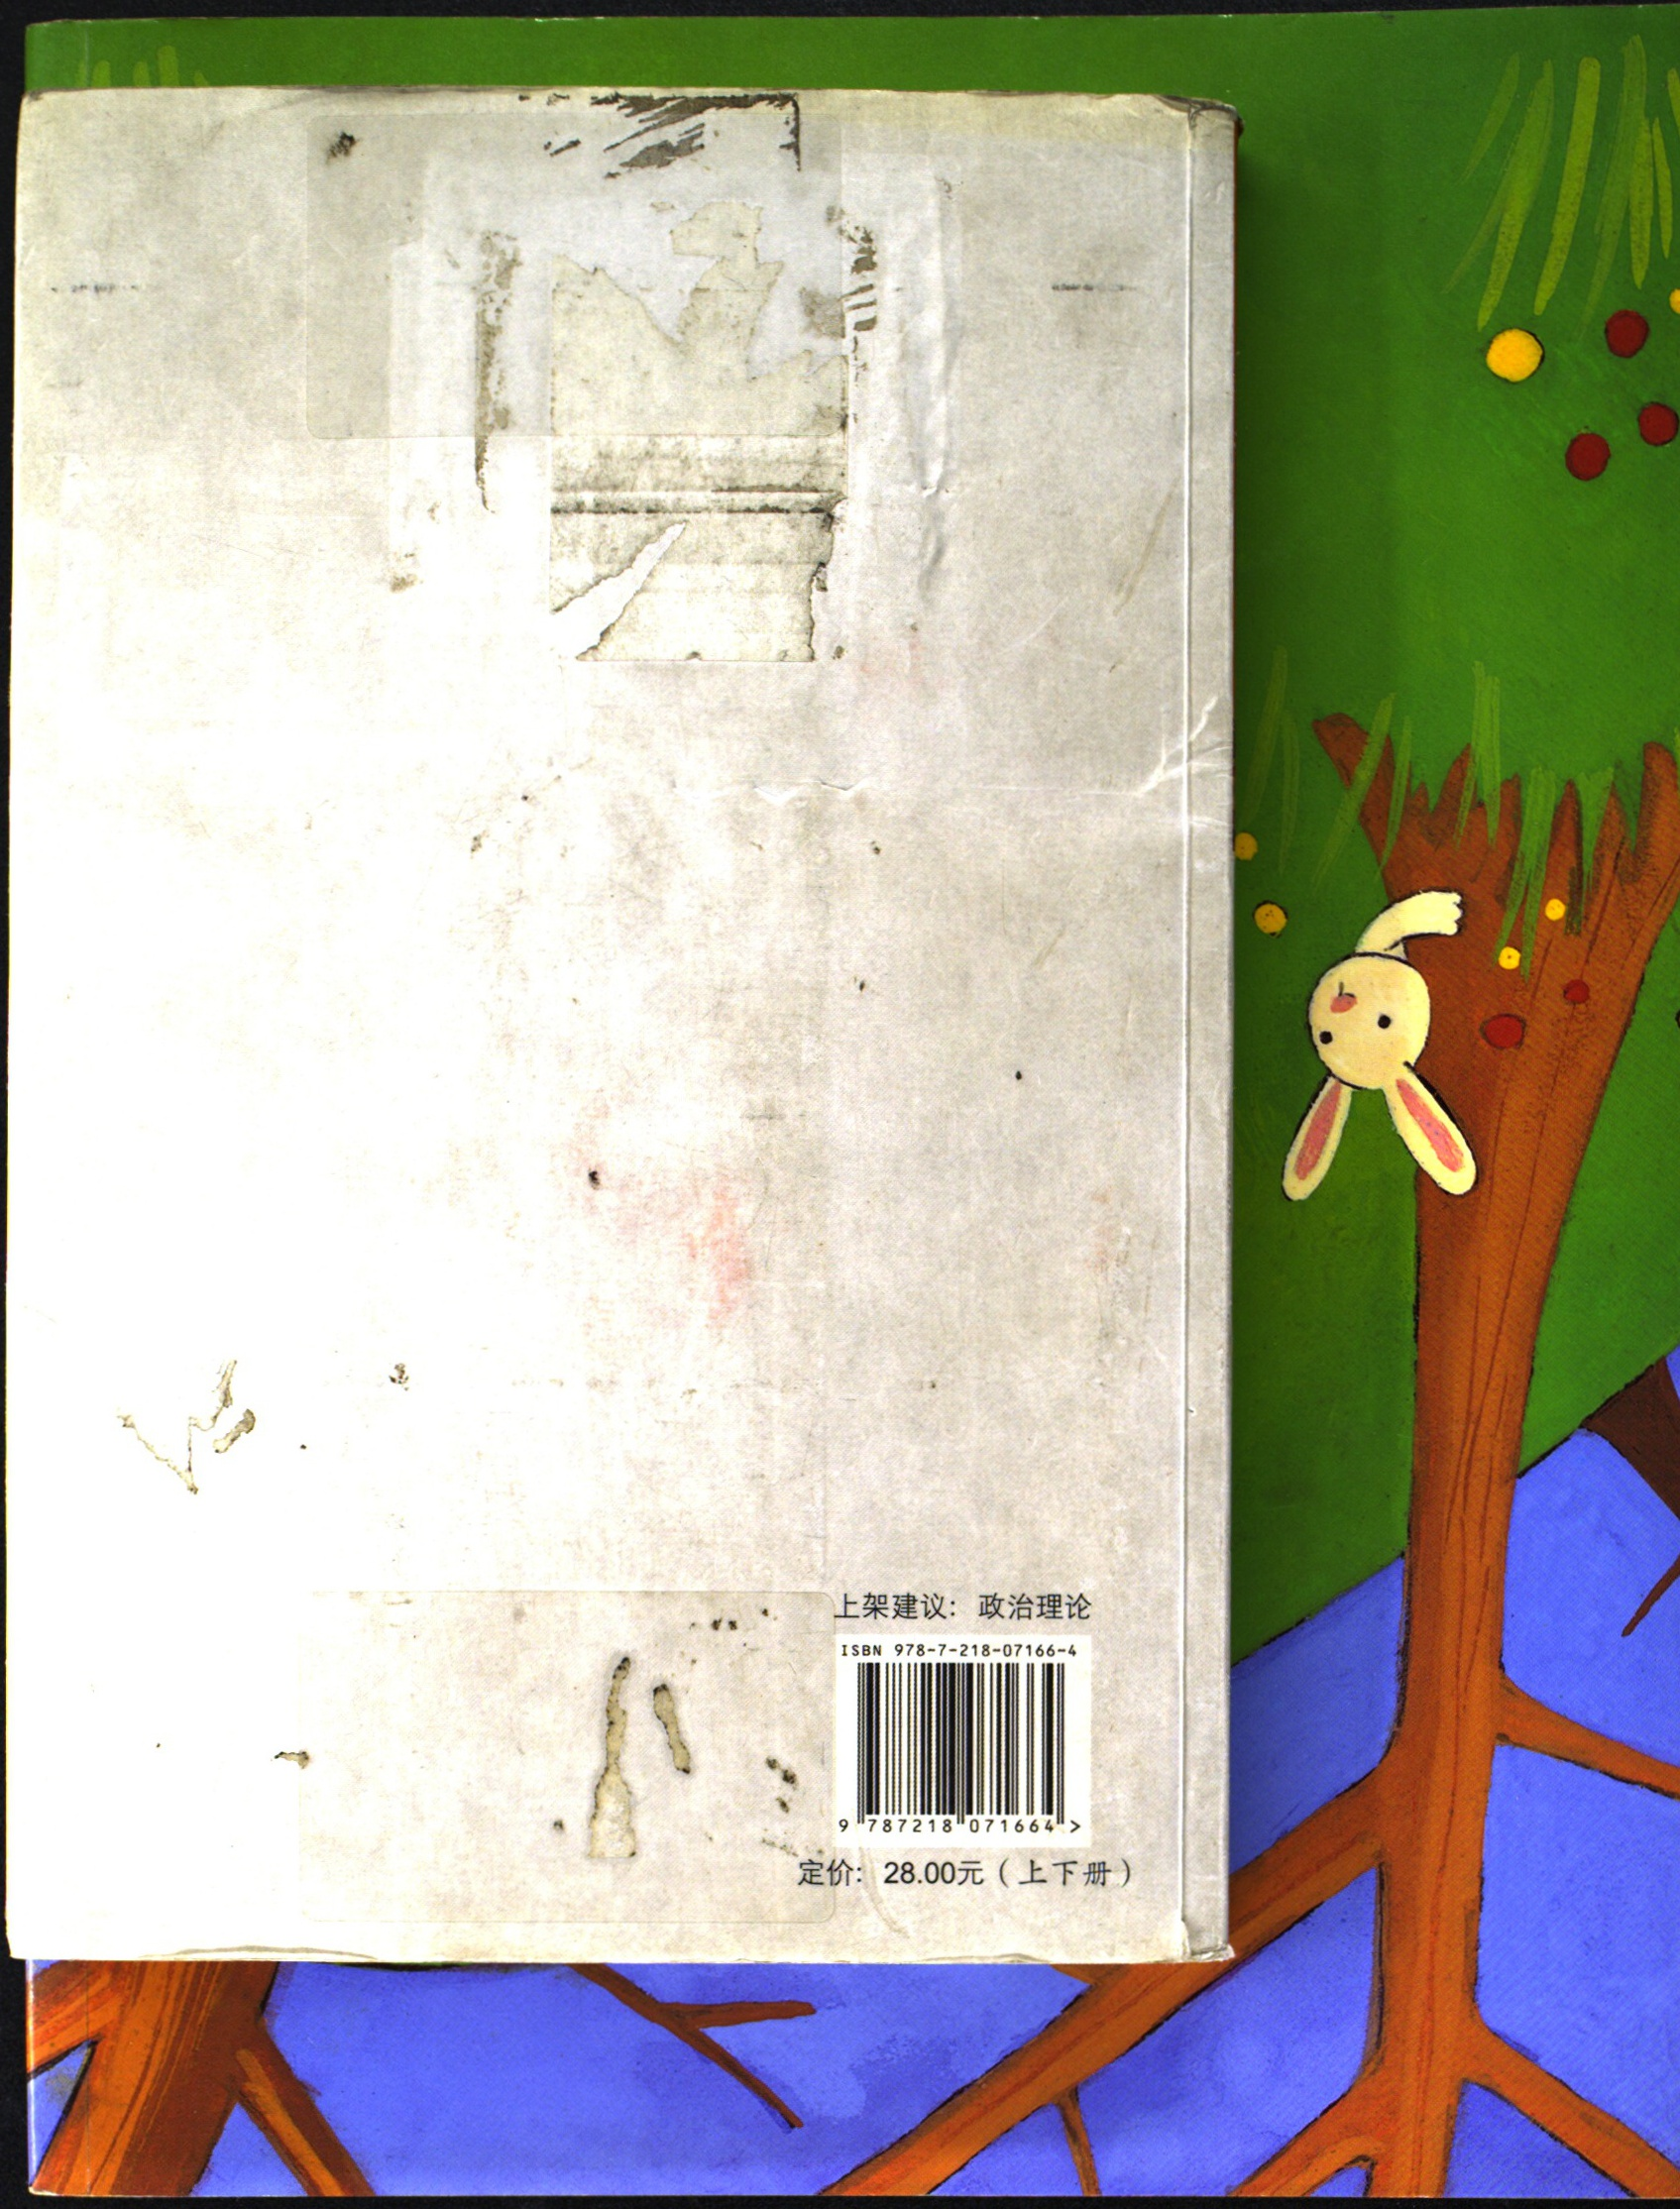barcode: (824, 1636, 1099, 1847)
